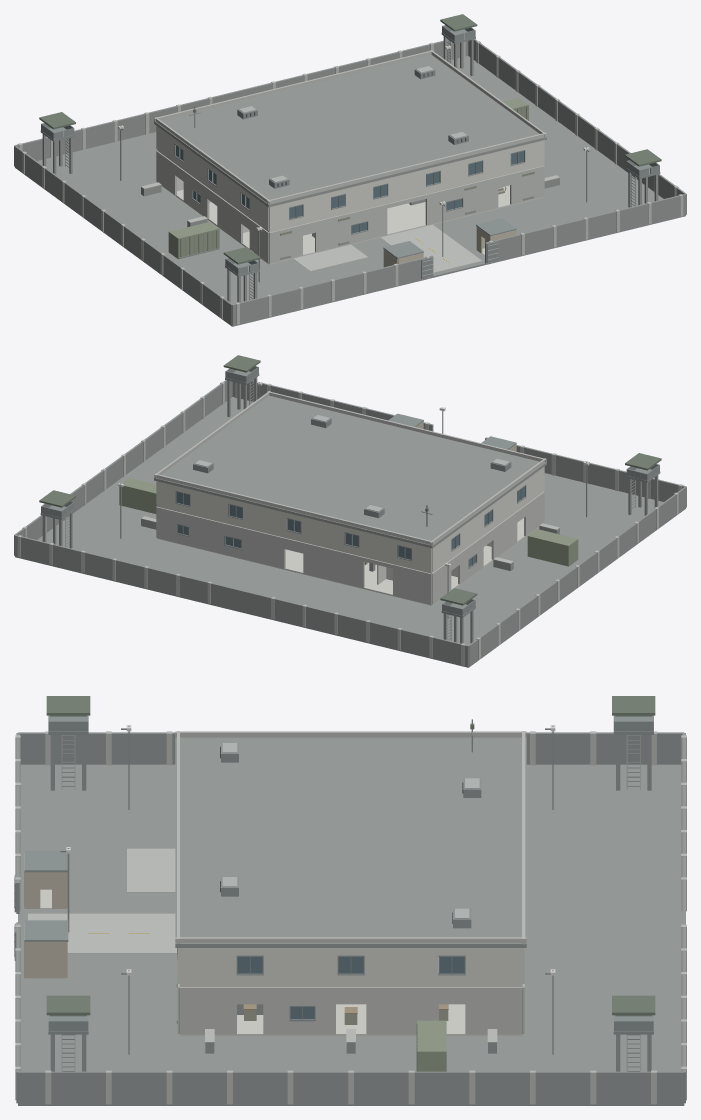
3 views of the same model, one above another, from view 1: azimuth 30°, elevation 25°; view 2: azimuth 150°, elevation 25°; view 3: azimuth 270°, elevation 25° (orthographic). The views are drawn at different scales.
Parts seen in each view (by area): view 1: COL__base; view 2: COL__base; view 3: COL__base.
Part boxes in pixels (bbox=[...]): COL__base: bbox=[14, 14, 686, 326]; COL__base: bbox=[14, 355, 686, 667]; COL__base: bbox=[14, 696, 686, 1105].
Size of the model in its own units: 90 by 16 by 75.
